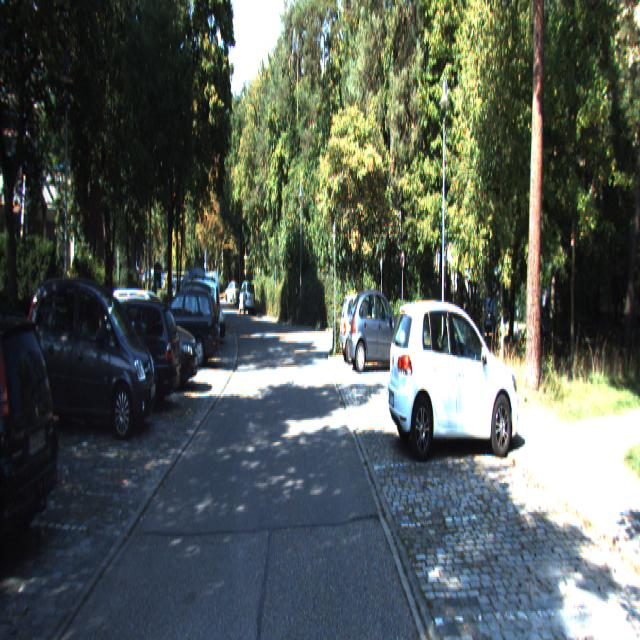Car: (23, 266, 158, 438), (384, 294, 522, 459), (0, 293, 62, 574), (68, 293, 183, 414), (103, 281, 200, 389), (148, 279, 219, 364), (346, 289, 408, 377), (339, 289, 394, 365), (238, 281, 256, 316)
DontCare: (219, 263, 240, 313)
